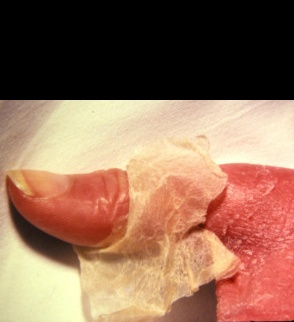SJS-TEN: (69, 137, 294, 322)
